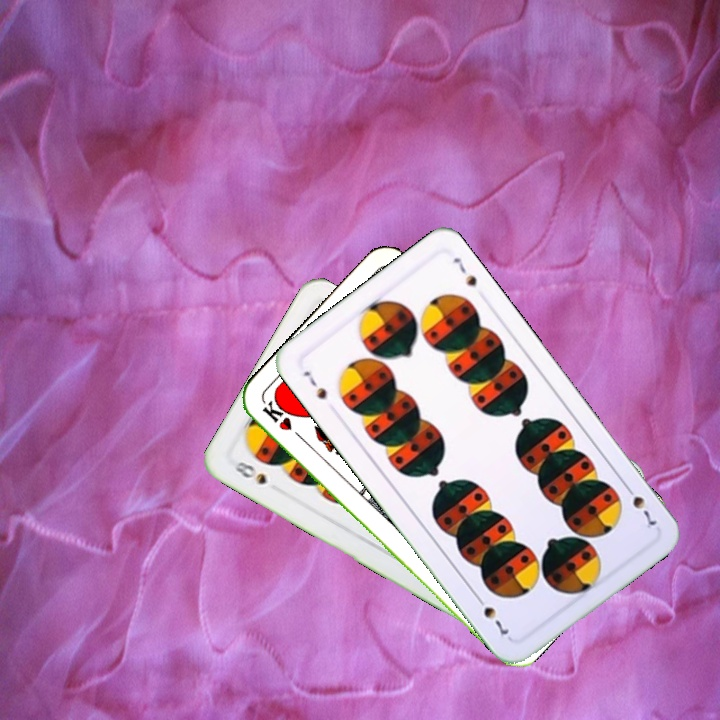HK: (258, 396, 308, 444)
S7: (620, 479, 660, 532), (298, 366, 330, 402)
S8: (226, 457, 269, 488)
